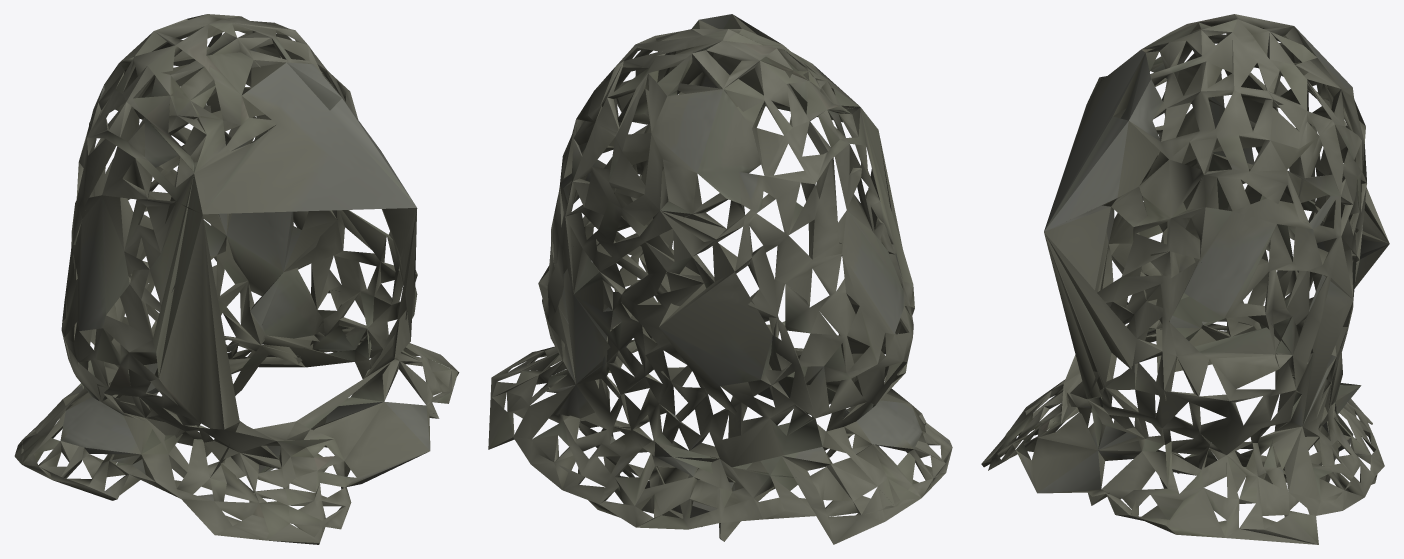
File: hat_fm_hood_idle.glb
3 views of the same model, side by side, from view 1: azimuth 30°, elevation 25°; view 2: azimuth 150°, elevation 25°; view 3: azimuth 270°, elevation 25° (orthographic). The views are drawn at different scales.
Parts seen in each view (by area): view 1: tripo_node_acb530d3-6e47-4161-a9f0-b2b0189f32e7; view 2: tripo_node_acb530d3-6e47-4161-a9f0-b2b0189f32e7; view 3: tripo_node_acb530d3-6e47-4161-a9f0-b2b0189f32e7.
Boxes of the visible parts, x1=… form: tripo_node_acb530d3-6e47-4161-a9f0-b2b0189f32e7: x1=14, y1=14, x2=459, y2=544; tripo_node_acb530d3-6e47-4161-a9f0-b2b0189f32e7: x1=488, y1=14, x2=952, y2=544; tripo_node_acb530d3-6e47-4161-a9f0-b2b0189f32e7: x1=981, y1=14, x2=1389, y2=544.
Size of the model in its own units: 0.3813 by 0.3774 by 0.3083.
1 material, 1 textured.
